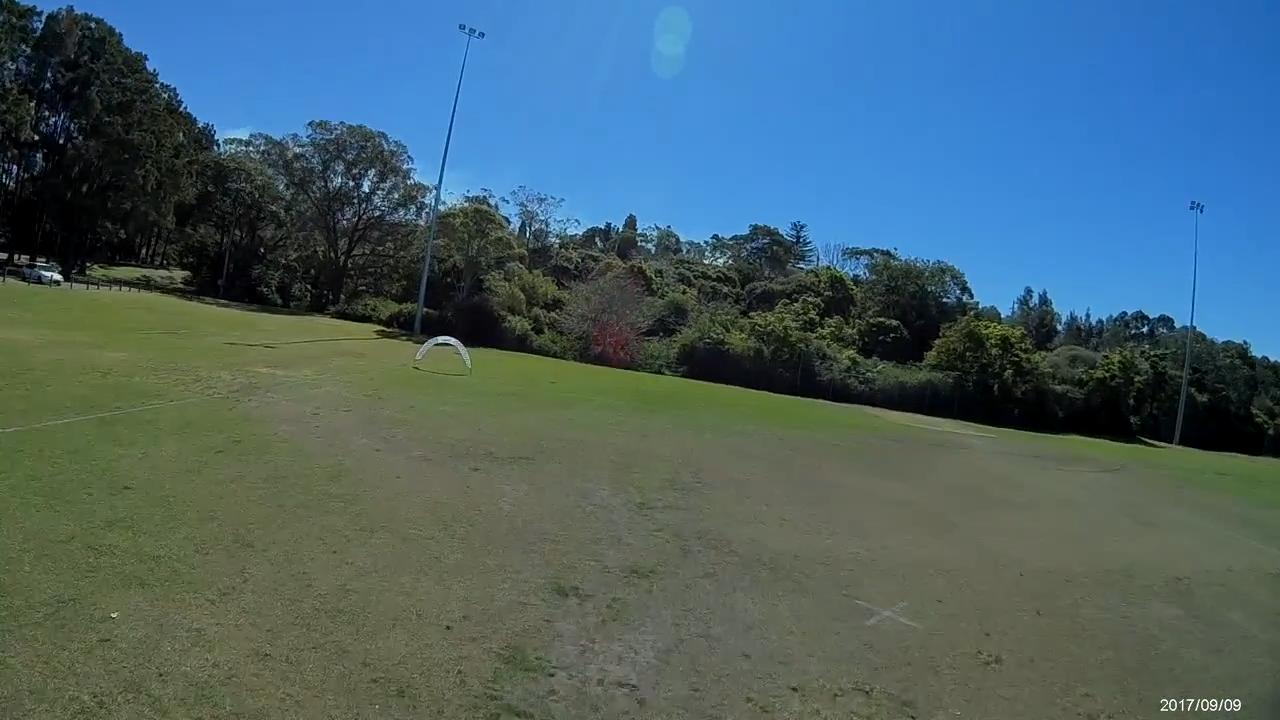gate: (414, 335, 471, 370)
